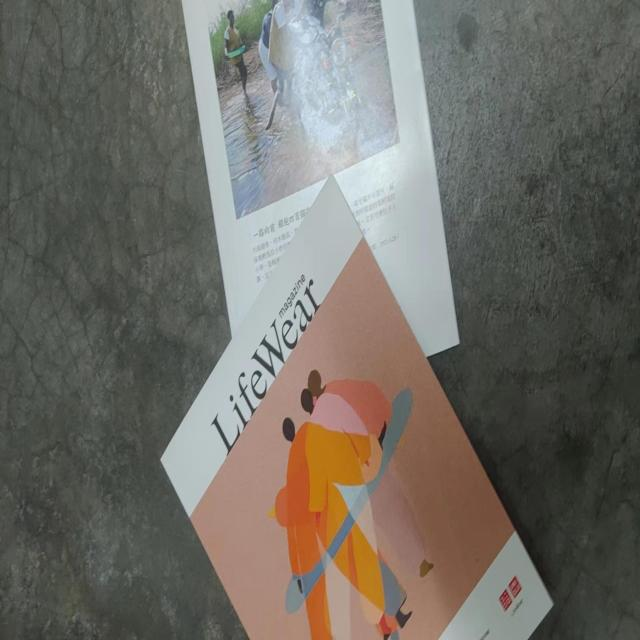paper: (160, 0, 554, 640)
